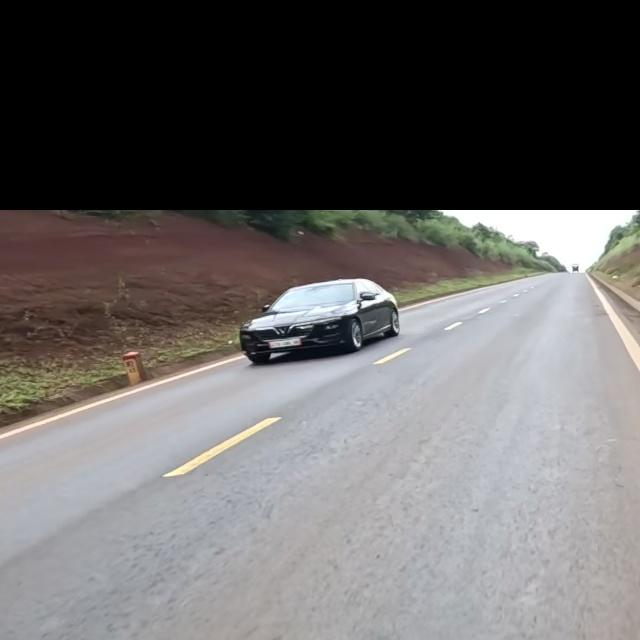license-plate: (268, 336, 301, 349)
